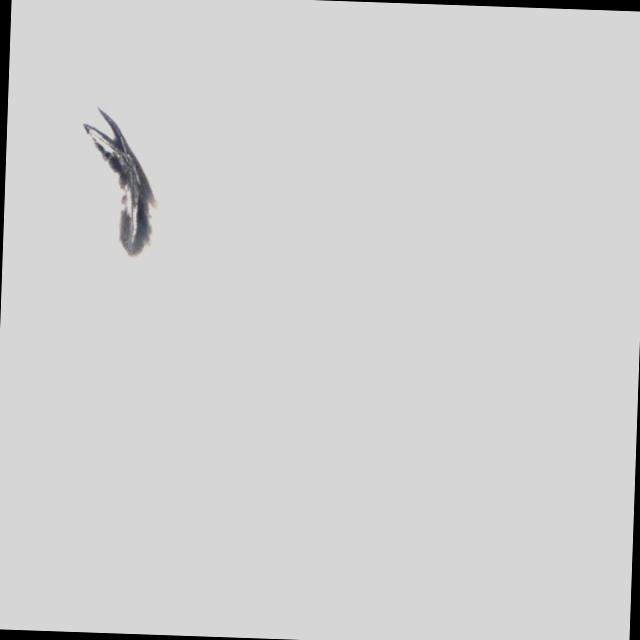crack: (66, 94, 167, 270)
